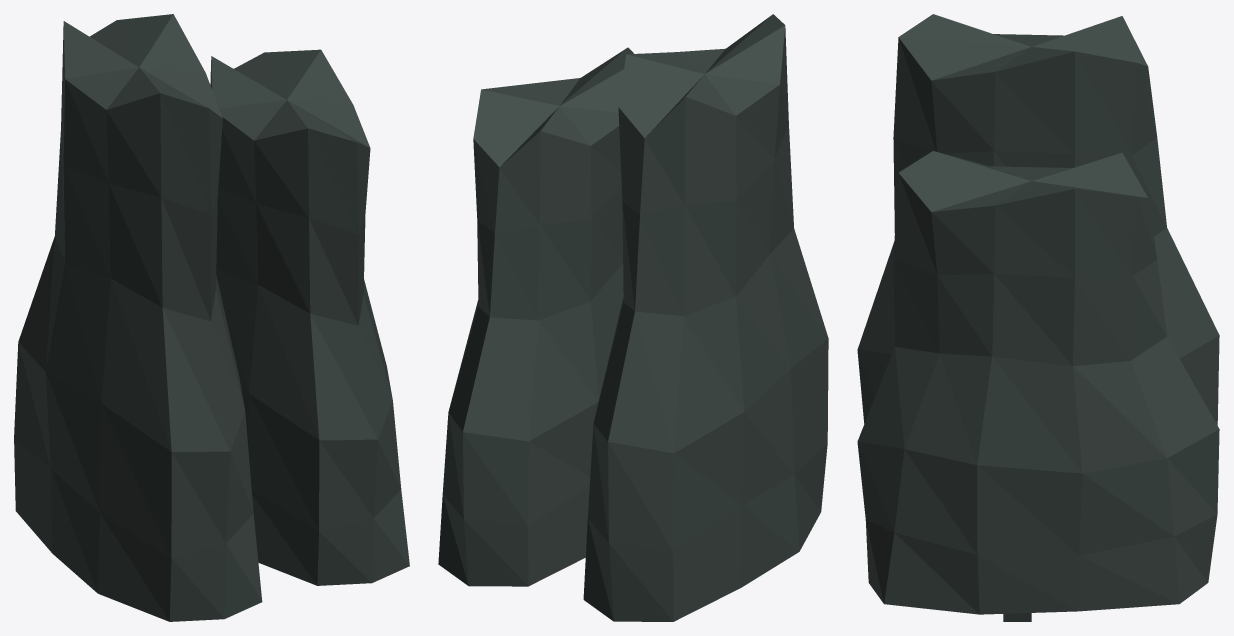
The picture shows the model from 3 angles, left to right: view 1: azimuth 30°, elevation 25°; view 2: azimuth 150°, elevation 25°; view 3: azimuth 270°, elevation 25°; orthographic projection. The views are drawn at different scales.
Visible parts, largest first — view 1: 破岩形状与干湿色尺寸族; view 2: 破岩形状与干湿色尺寸族; view 3: 破岩形状与干湿色尺寸族.
Part boxes in pixels (bbox=[...]): 破岩形状与干湿色尺寸族: bbox=[14, 14, 409, 621]; 破岩形状与干湿色尺寸族: bbox=[438, 14, 828, 621]; 破岩形状与干湿色尺寸族: bbox=[857, 14, 1219, 621].
Bounding box in the file's own units: 2.24 × 4.01 × 2.56.
Materials: 2 (2 with a texture image).
